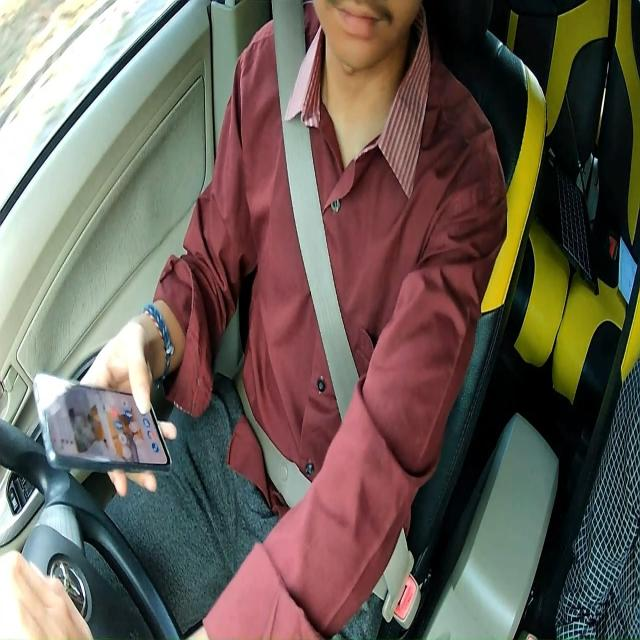phone: (30, 368, 174, 476)
